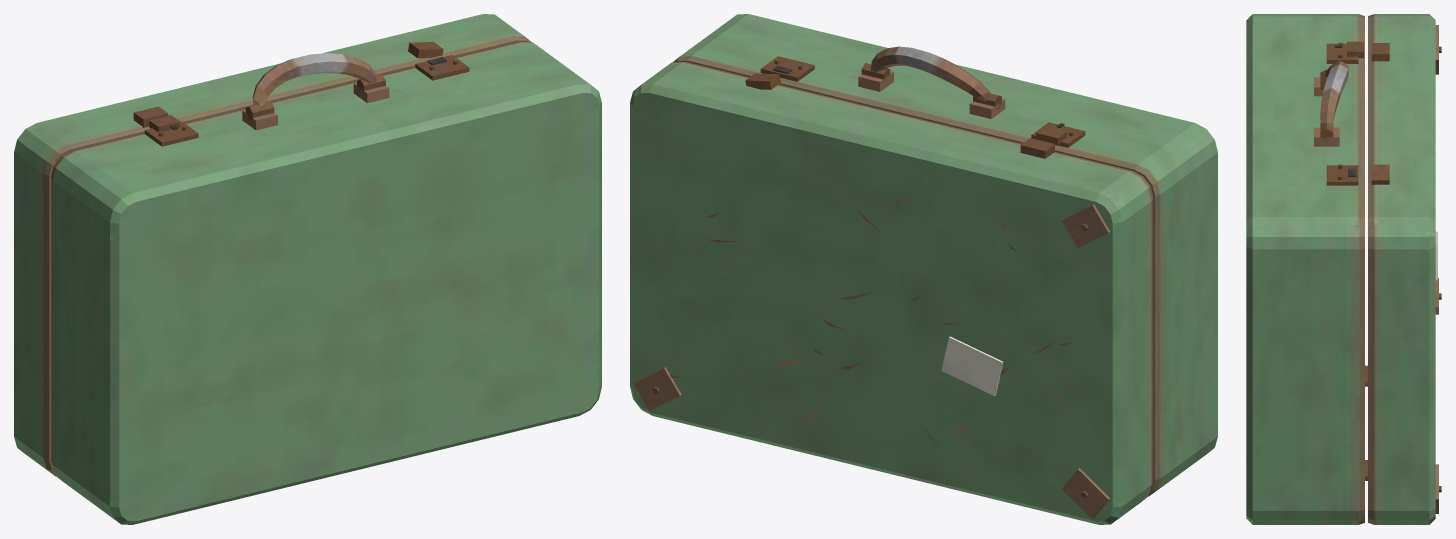
The model's file is B14_old_suitcase_v2.glb.
3 renders of one model, left to right at view 1: azimuth 30°, elevation 25°; view 2: azimuth 150°, elevation 25°; view 3: azimuth 270°, elevation 25°, orthographic. The views are drawn at different scales.
Parts seen in each view (by area): view 1: Green travel case; view 2: Green travel case; view 3: Green travel case.
Part boxes in pixels (x1=…): Green travel case: x1=14, y1=14, x2=601, y2=524; Green travel case: x1=630, y1=14, x2=1217, y2=524; Green travel case: x1=1246, y1=14, x2=1441, y2=524.
Bounding box in the file's own units: 0.6 × 0.4588 × 0.2236.
Materials: 8 (8 with a texture image).
